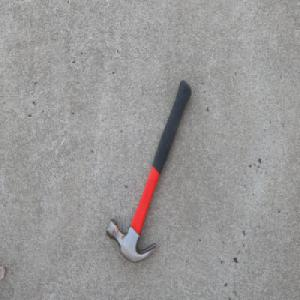Hammer: (105, 78, 192, 266)
